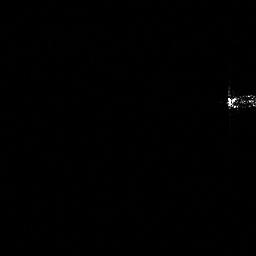ship: (223, 90, 256, 112)
